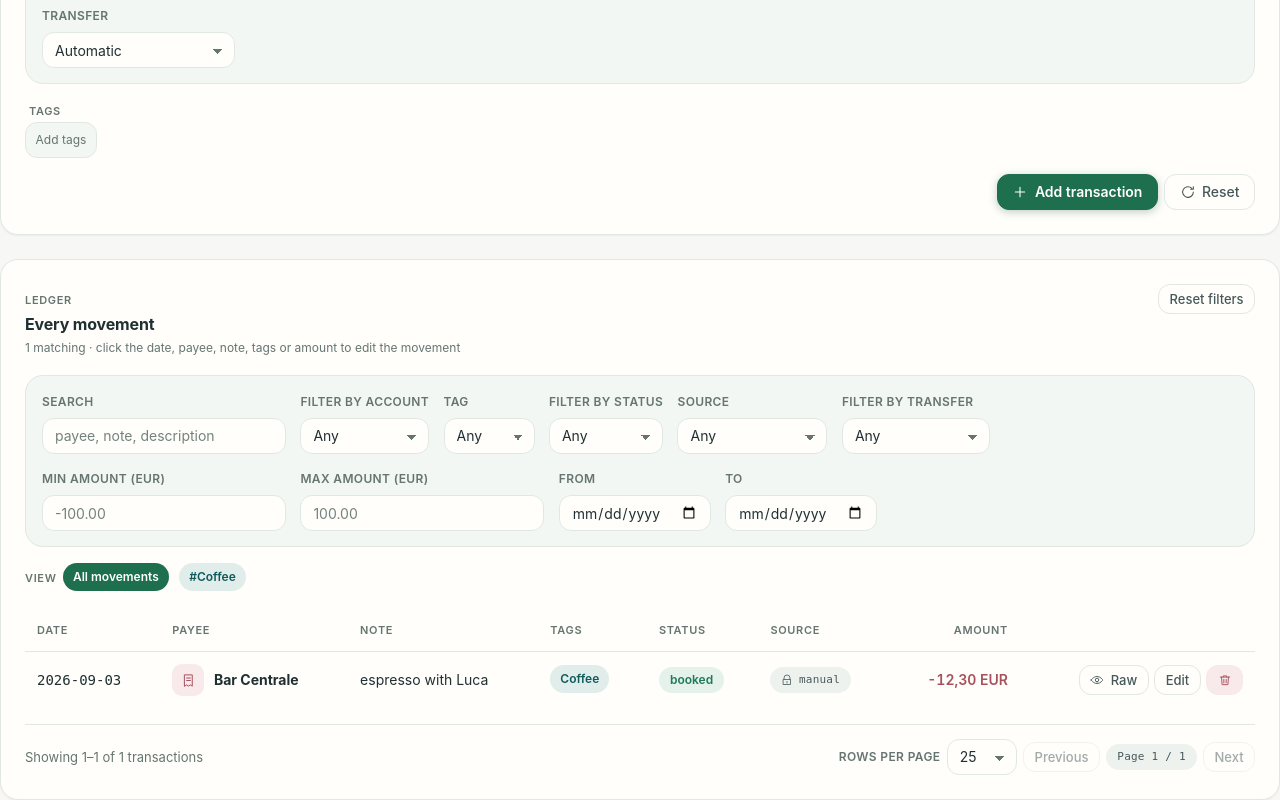
Test: transactions view › explains when a transaction has no provider record
(page scrolled)
expect the text "Bar Centrale" is shown: met, box top-left (214, 669), bottom-right (299, 691)
What coordinates should you click on to do the following:
click the button "Raw"
I would click on:
 (1114, 680)
Its box is top-left (1079, 665), bottom-right (1149, 695).
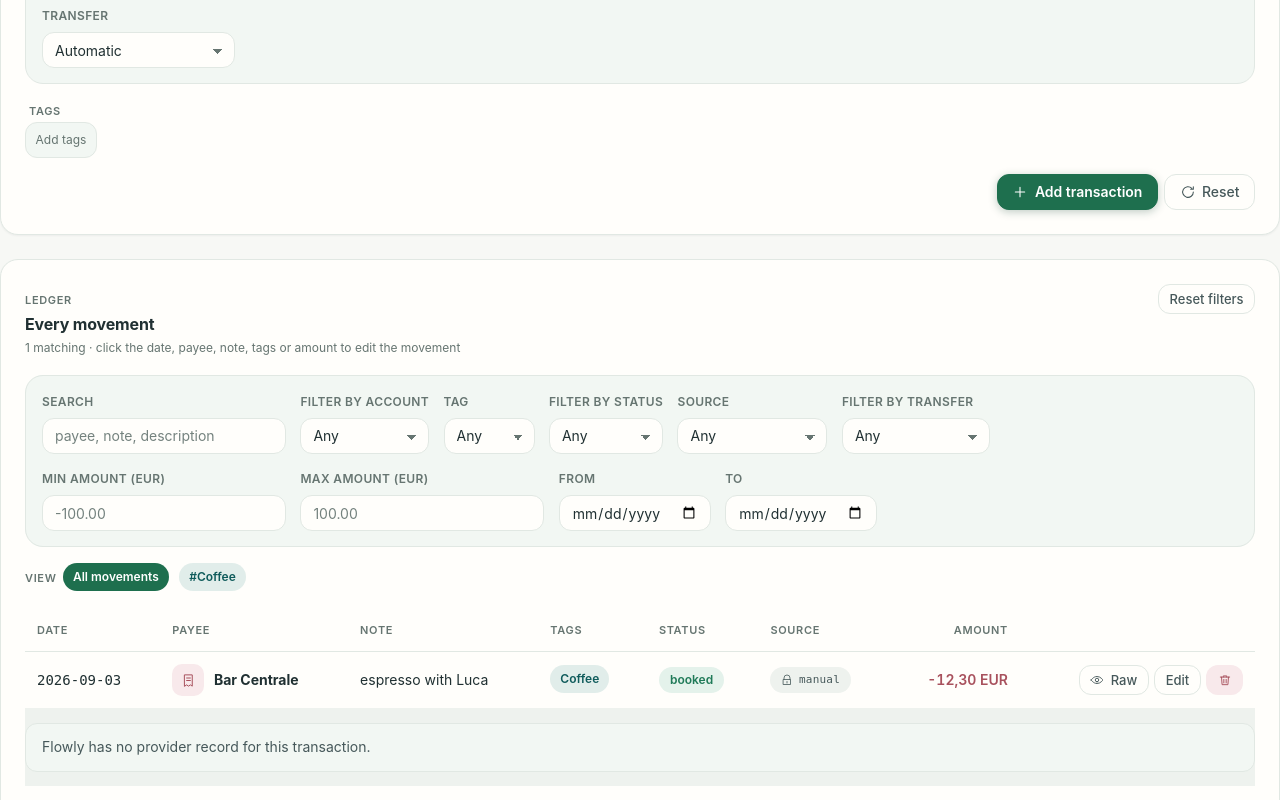
expect the text "Flowly has no provider record for this transaction." is shown: met, box top-left (42, 736), bottom-right (370, 759)
